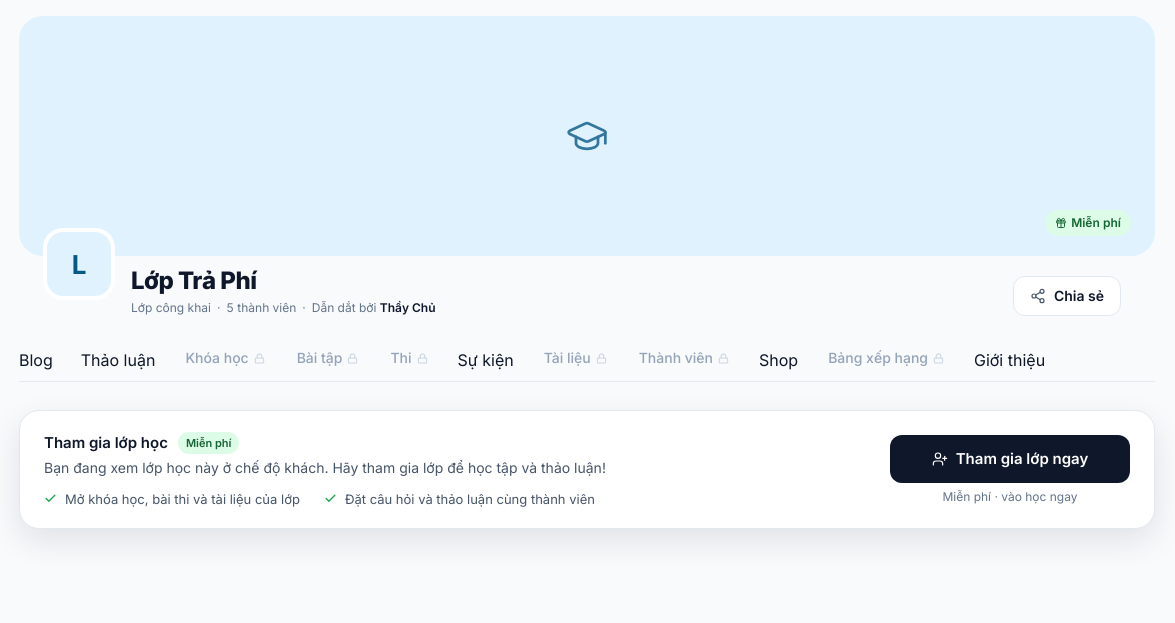
ClassroomLayout - joining a class that turned out to be paid › INVITE_REQUIRED on join reads as a friendly sentence in the page
The width and height of the screenshot is (1175, 623).
Click the button "Tham gia lớp ngay" at (1010, 458), box [890,434,1130,482]
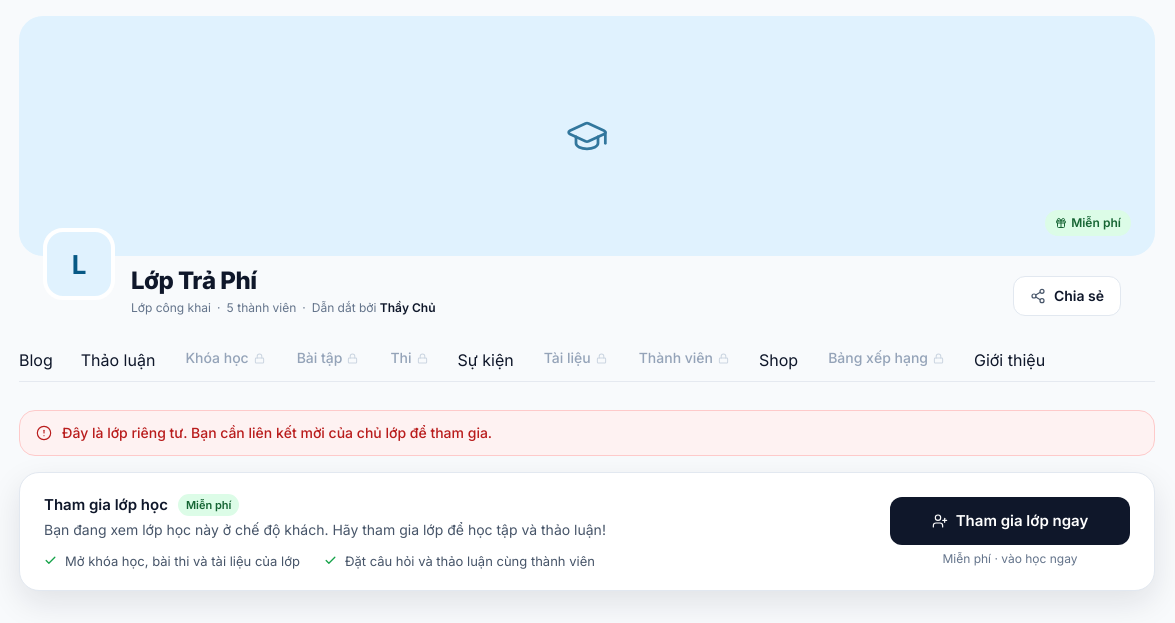
Result: the message reads "Đây là lớp riêng tư. Bạn cần liên kết mời của chủ lớp để tham gia." at [62,424,492,441]
